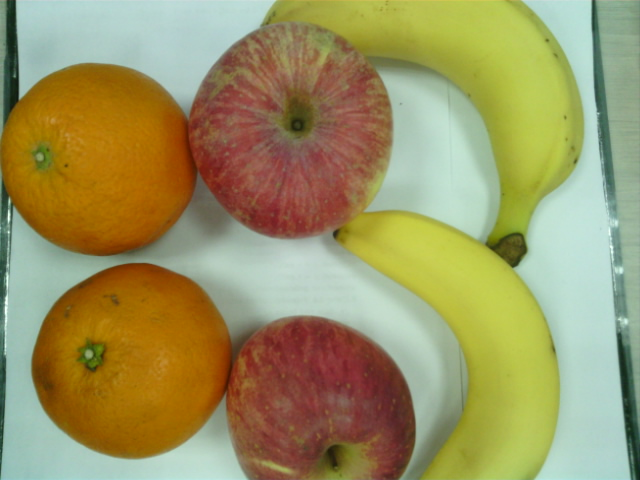normal_apple: (188, 23, 393, 240), (228, 314, 416, 480)
normal_banana: (262, 1, 586, 269), (333, 210, 559, 480)
normal_orange: (33, 263, 231, 458), (6, 63, 187, 255)
